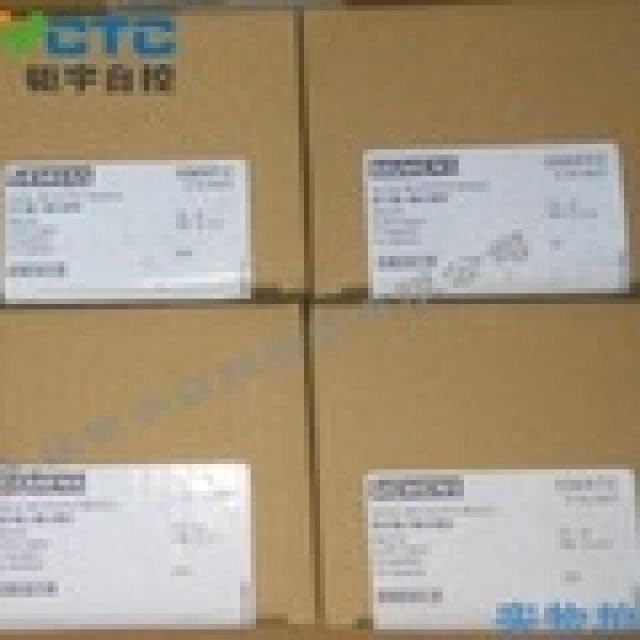box: (308, 299, 635, 635), (0, 304, 320, 635), (299, 0, 635, 299), (0, 0, 307, 304)
